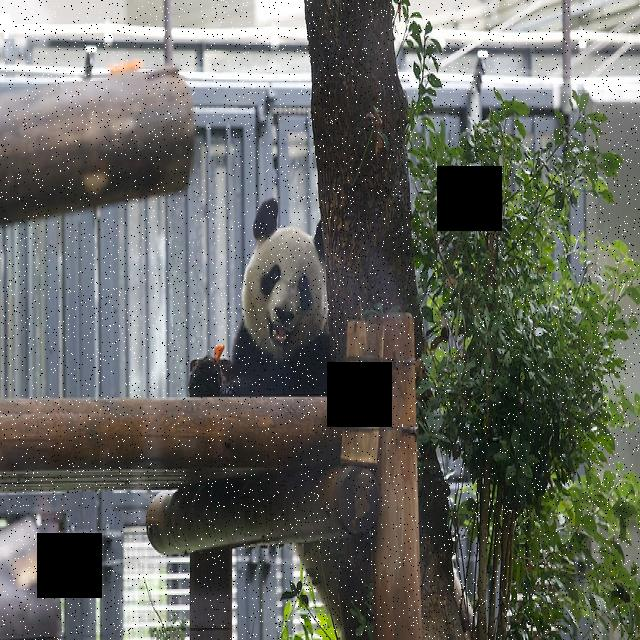Bear: (181, 195, 336, 419)
